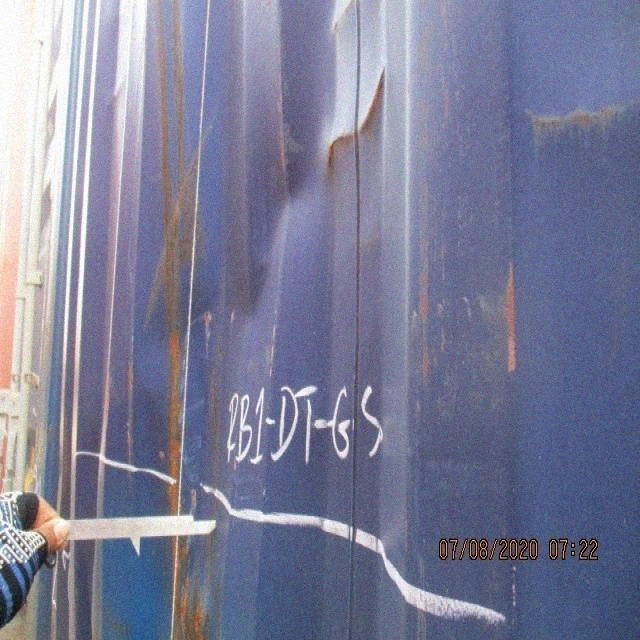Dent: (72, 1, 420, 640)
